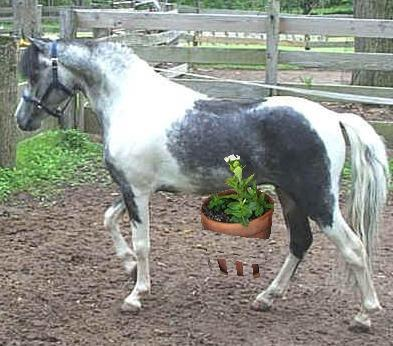tampered: (202, 155, 274, 278)
